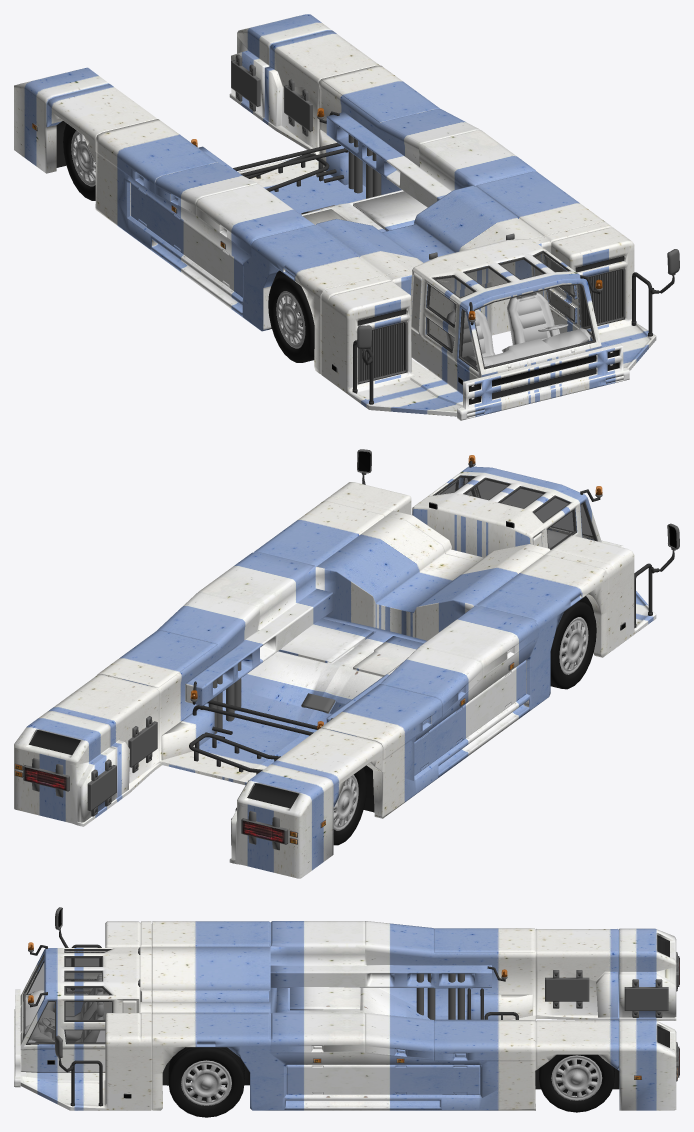
The model's file is Car.FBX.
The picture shows the model from 3 angles, top to bottom: view 1: azimuth 30°, elevation 25°; view 2: azimuth 150°, elevation 25°; view 3: azimuth 270°, elevation 25°; orthographic projection. The views are drawn at different scales.
Parts seen in each view (by area): view 1: subD, subD_4, subD_3, subD_RAD_VR, Non_subD, subD_RAD_H, subD_2; view 2: subD, subD_4, subD_3, subD_RAD_VR, Non_subD, subD_RAD_H, subD_2; view 3: subD, subD_4, subD_3, subD_RAD_VL, subD_RAD_H, subD_2, Non_subD.
Part boxes in pixels (left/top/right/bottom): subD: left=14, top=54, right=679, bottom=420; subD_4: left=229, top=14, right=605, bottom=256; subD_3: left=470, top=222, right=656, bottom=399; subD_RAD_VR: left=268, top=275, right=314, bottom=362; Non_subD: left=233, top=142, right=348, bottom=191; subD_RAD_H: left=63, top=123, right=95, bottom=200; subD_2: left=191, top=139, right=475, bottom=404; subD: left=14, top=449, right=656, bottom=878; subD_4: left=14, top=501, right=463, bottom=826; subD_3: left=323, top=466, right=535, bottom=558; subD_RAD_VR: left=550, top=601, right=596, bottom=689; Non_subD: left=189, top=700, right=318, bottom=774; subD_RAD_H: left=333, top=768, right=366, bottom=845; subD_2: left=231, top=486, right=679, bottom=845; subD: left=14, top=921, right=679, bottom=1106; subD_4: left=152, top=999, right=676, bottom=1110; subD_3: left=14, top=968, right=151, bottom=1110; subD_RAD_VL: left=168, top=1047, right=244, bottom=1117; subD_RAD_H: left=539, top=1054, right=614, bottom=1112; subD_2: left=28, top=907, right=668, bottom=1017; Non_subD: left=467, top=988, right=518, bottom=1019.
Size of the model in its own units: 189 by 61.93 by 397.
